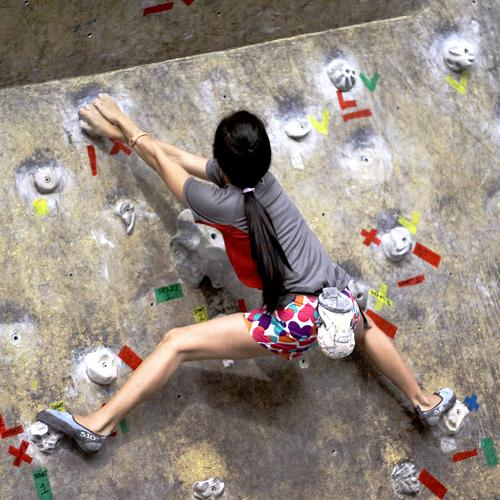person: (34, 90, 457, 456)
